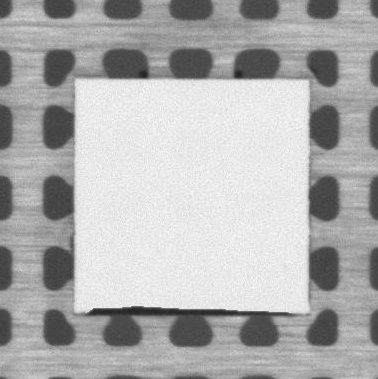DIE_BROKEN: (82, 300, 302, 318)
